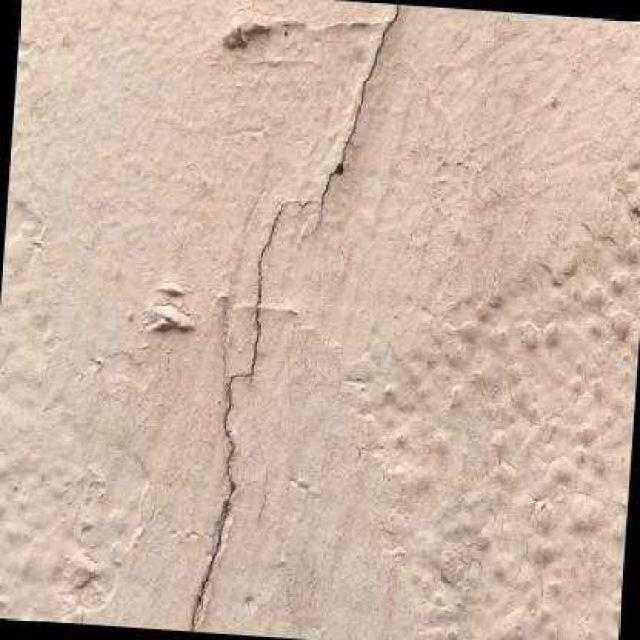D00: (190, 4, 402, 631)
